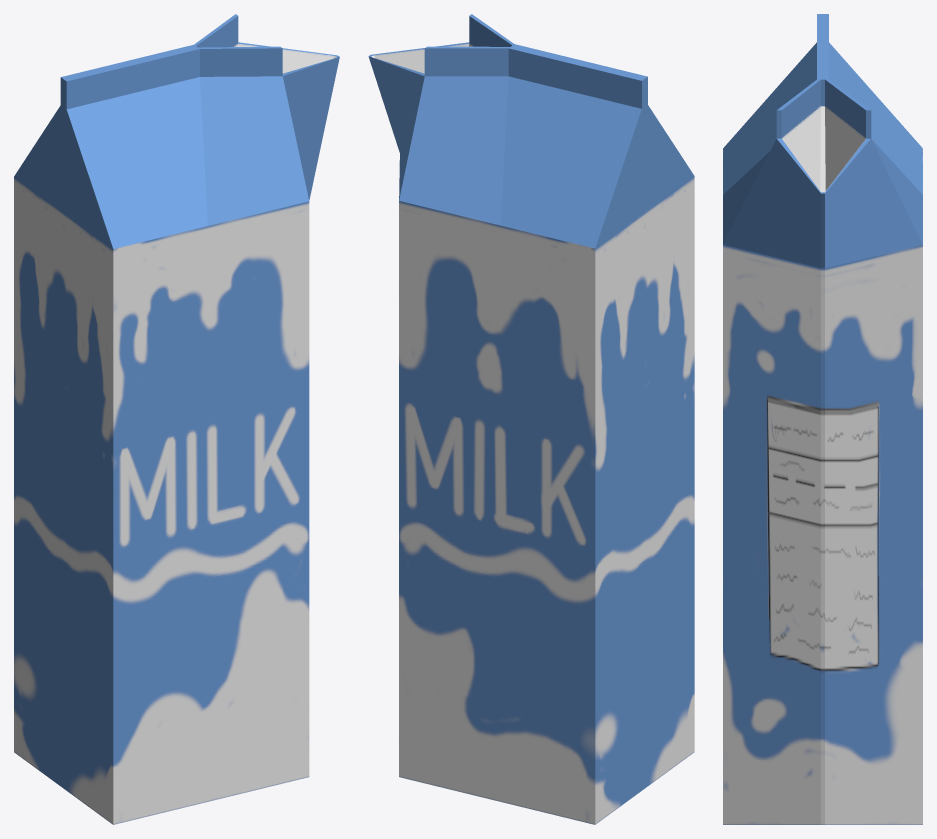
File: Prop masak_Milk.fbx
3 views of the same model, side by side, from view 1: azimuth 30°, elevation 25°; view 2: azimuth 150°, elevation 25°; view 3: azimuth 270°, elevation 25° (orthographic).
Visible parts, largest first — view 1: Milk; view 2: Milk; view 3: Milk.
Boxes of the visible parts, box(x1,y1,x2,y2) form: Milk: box(14, 14, 339, 824); Milk: box(368, 14, 694, 824); Milk: box(723, 14, 922, 824).
Size of the model in its own units: 16.44 by 40.49 by 10.27.
